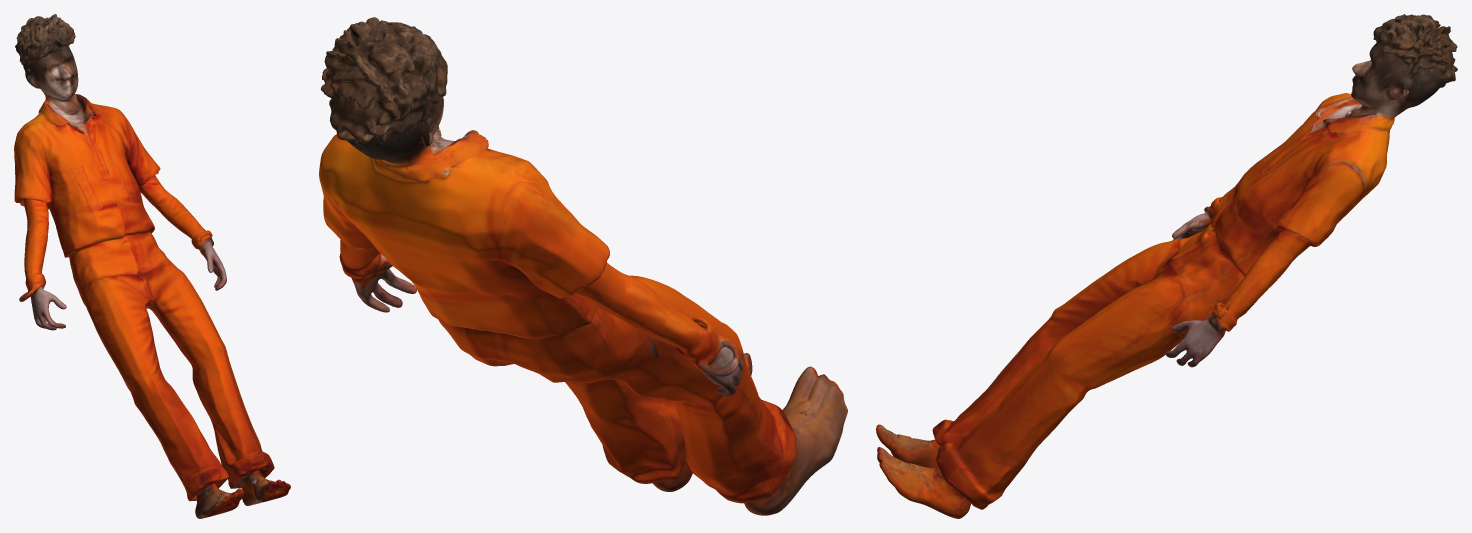
File: Human_prisoner_dresse_0226173207_texture.fbx
3 renders of one model, left to right at view 1: azimuth 30°, elevation 25°; view 2: azimuth 150°, elevation 25°; view 3: azimuth 270°, elevation 25°, orthographic. The views are drawn at different scales.
Visible parts, largest first — view 1: Mesh_0.007; view 2: Mesh_0.007; view 3: Mesh_0.007.
Part boxes in pixels (bbox=[...]): Mesh_0.007: bbox=[14, 14, 290, 518]; Mesh_0.007: bbox=[319, 17, 847, 515]; Mesh_0.007: bbox=[876, 14, 1457, 518].
Size of the model in its own units: 101 by 182 by 200.
1 material, 1 textured.
